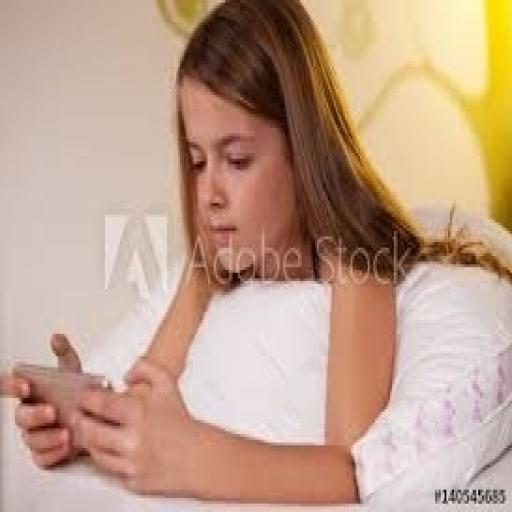texting: (8, 0, 510, 509)
